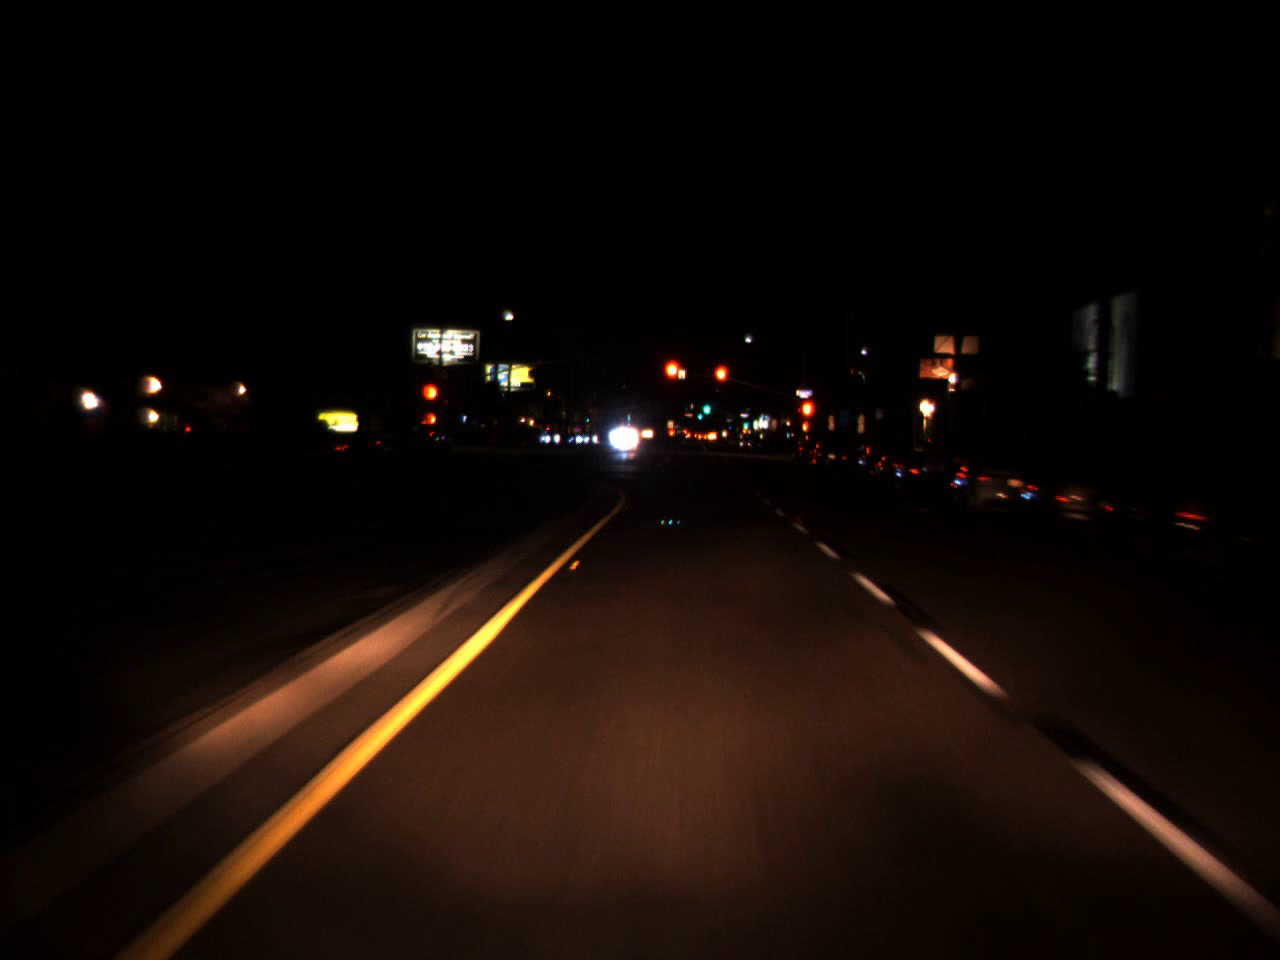go: (701, 394, 711, 418), (696, 409, 703, 421), (742, 416, 749, 428)
stop: (420, 380, 441, 423), (661, 358, 682, 395), (799, 398, 817, 435), (712, 363, 730, 398)
